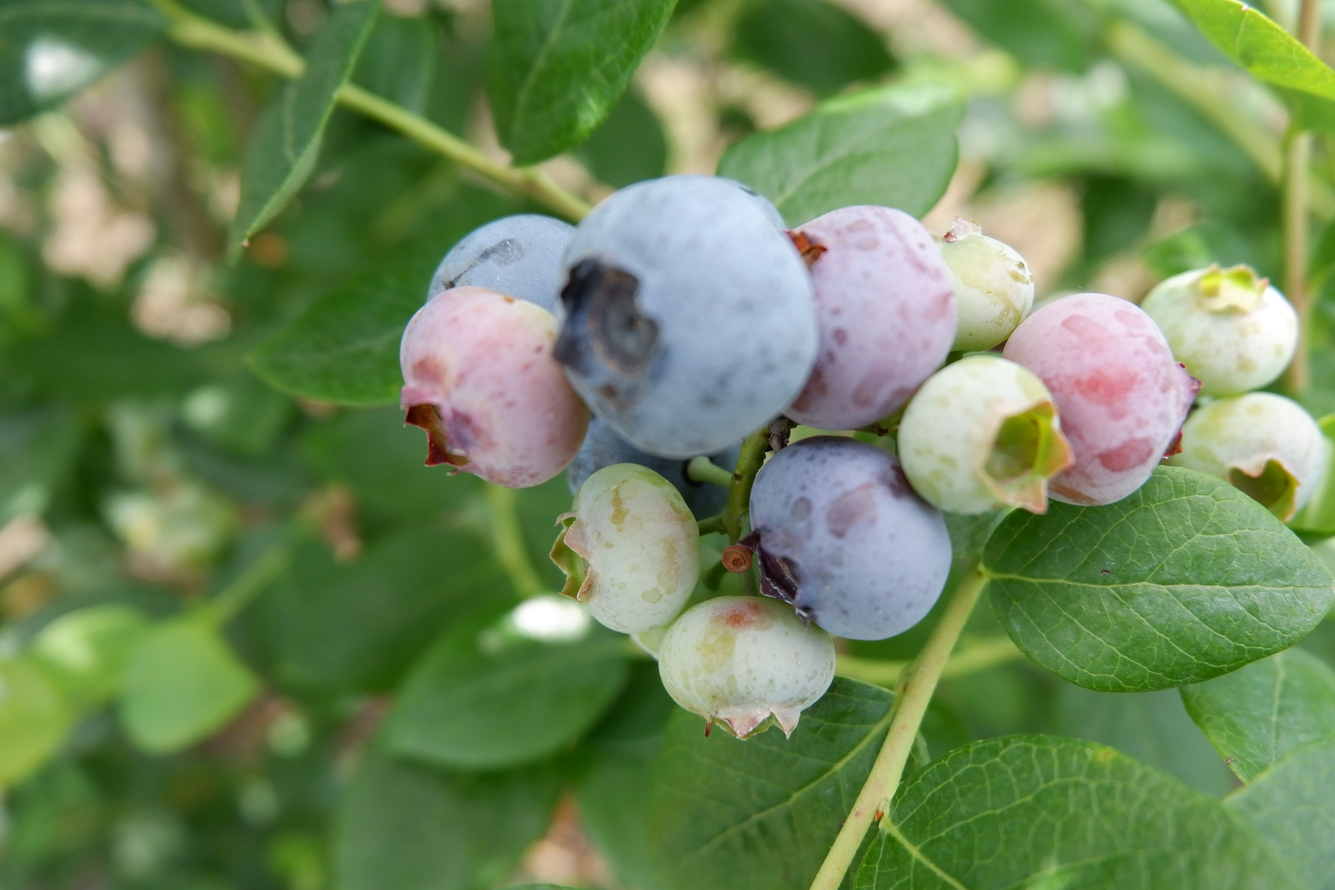Immature: (783, 205, 954, 426), (1010, 298, 1187, 499), (405, 292, 585, 483), (902, 358, 1066, 510), (559, 464, 700, 632), (661, 599, 834, 735), (1157, 392, 1325, 524), (1147, 269, 1298, 395), (933, 219, 1033, 350), (630, 542, 740, 660)
Mature: (559, 176, 818, 458), (748, 437, 950, 641), (565, 405, 744, 521), (428, 217, 569, 310)
